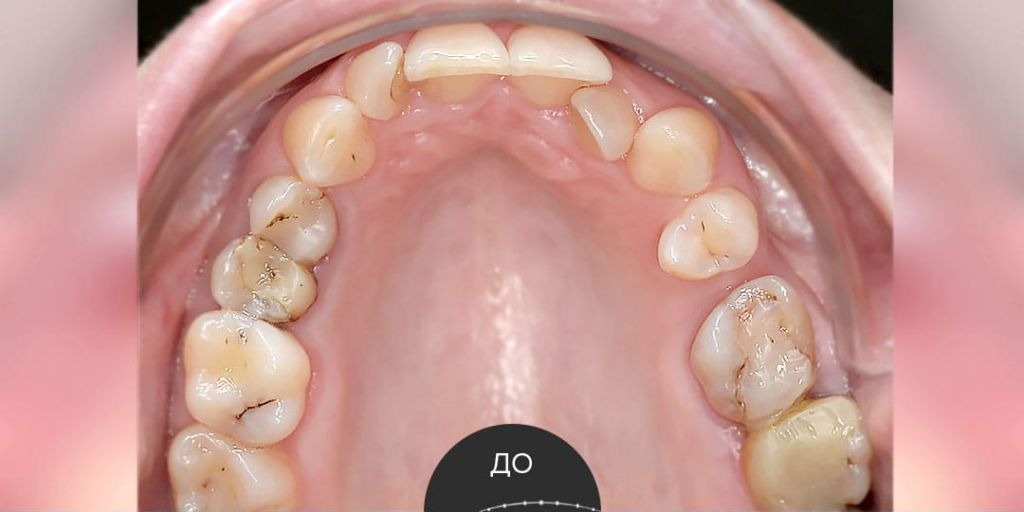UL1BC_healthy: (656, 195, 757, 279)
UL1M_healthy: (746, 411, 875, 512)
UL2BC_decay: (691, 273, 821, 416)
ULCI_healthy: (509, 28, 611, 94)
ULC_healthy: (632, 107, 723, 192)
ULLI_healthy: (569, 84, 639, 160)
UR1BC_decay: (251, 176, 340, 260)
UR1M_decay: (182, 316, 308, 442)
UR2BC_decay: (212, 238, 320, 321)
URCI_healthy: (406, 29, 509, 100)
URC_healthy: (283, 97, 382, 182)
URLI_healthy: (345, 45, 412, 118)
